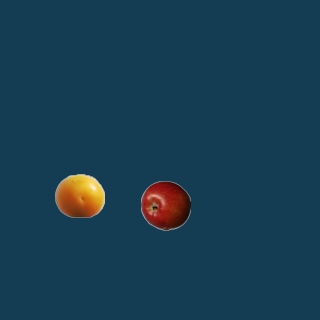Apple Braeburn: (140, 180, 190, 230)
Cherry Wax Yellow: (54, 170, 104, 220)
